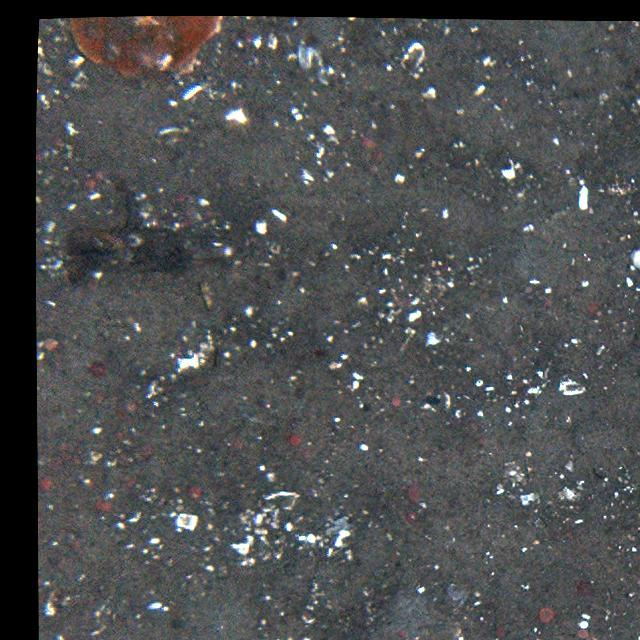scallop: (72, 15, 241, 83)
